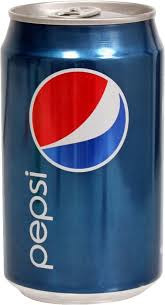pepsi: (1, 1, 161, 296)
